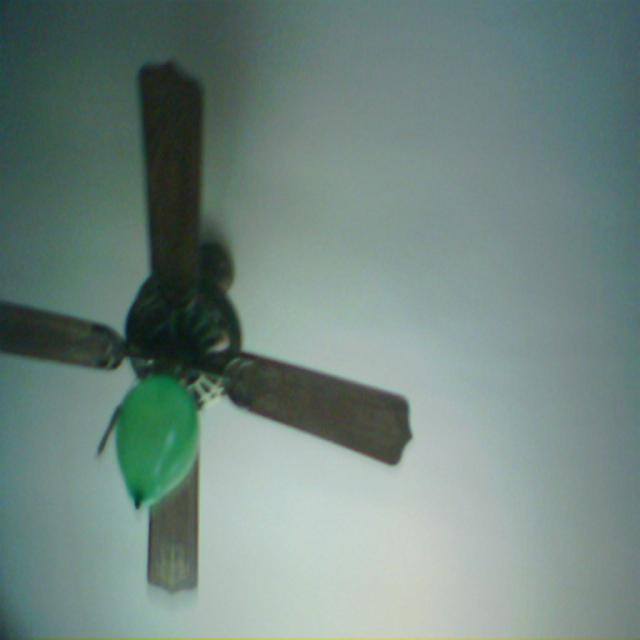fan_off: (0, 61, 415, 594)
